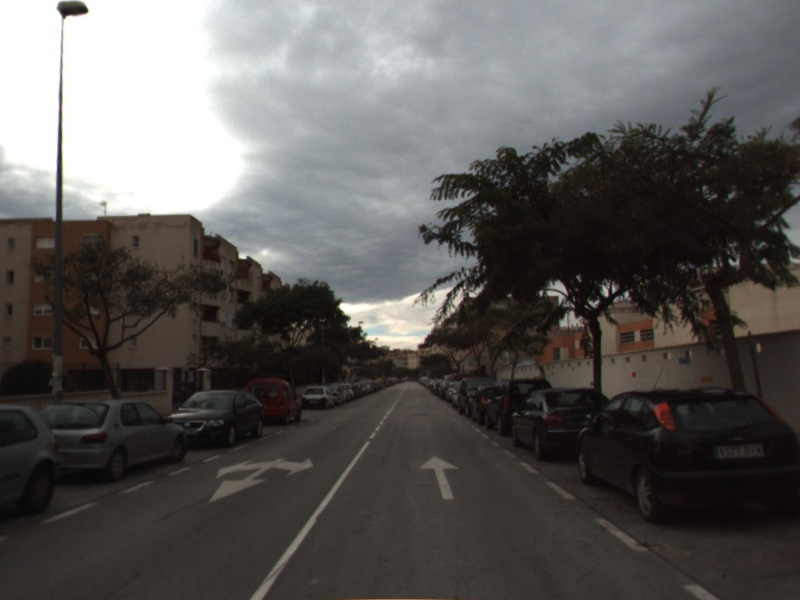STRAIGHT: (416, 454, 462, 501)
